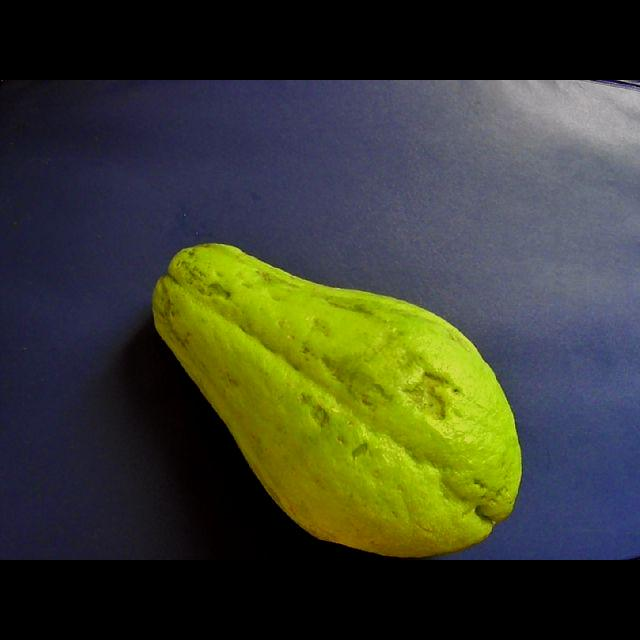chayote: (152, 244, 521, 556)
